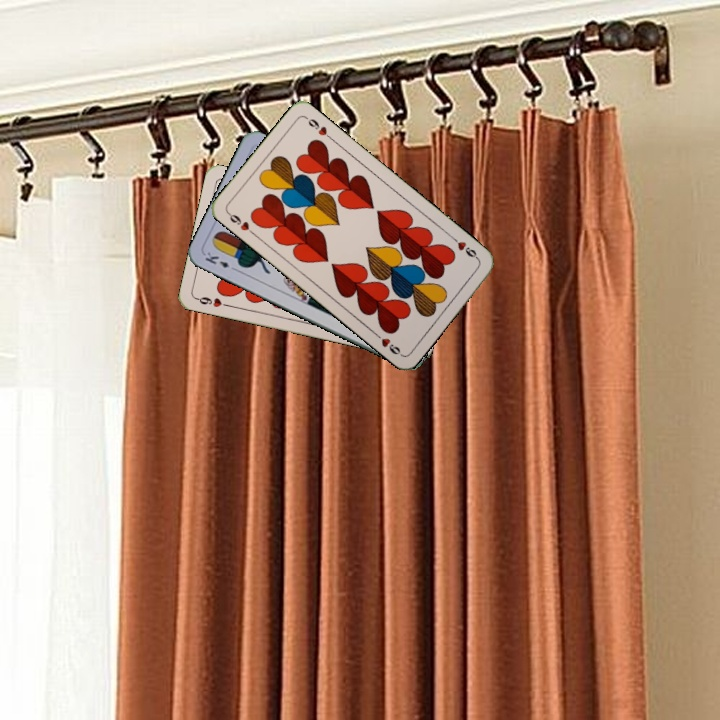EK: (201, 248, 240, 274)
H9: (223, 208, 258, 238), (448, 232, 481, 263), (193, 293, 233, 310)
